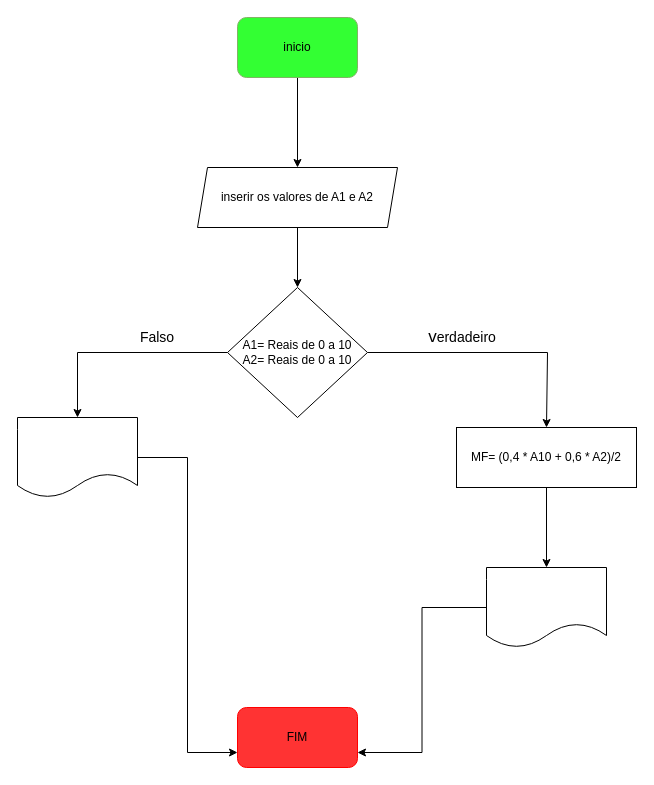
The diagram is 654 pixels wide and 785 high, and some of its shapes have lost their labels. The box of each missing label's shape, as (x1, y1, x2, y2) in pixels:
MF: (486, 566, 606, 648)
Valor incorreto tente novamente: (16, 416, 138, 498)
